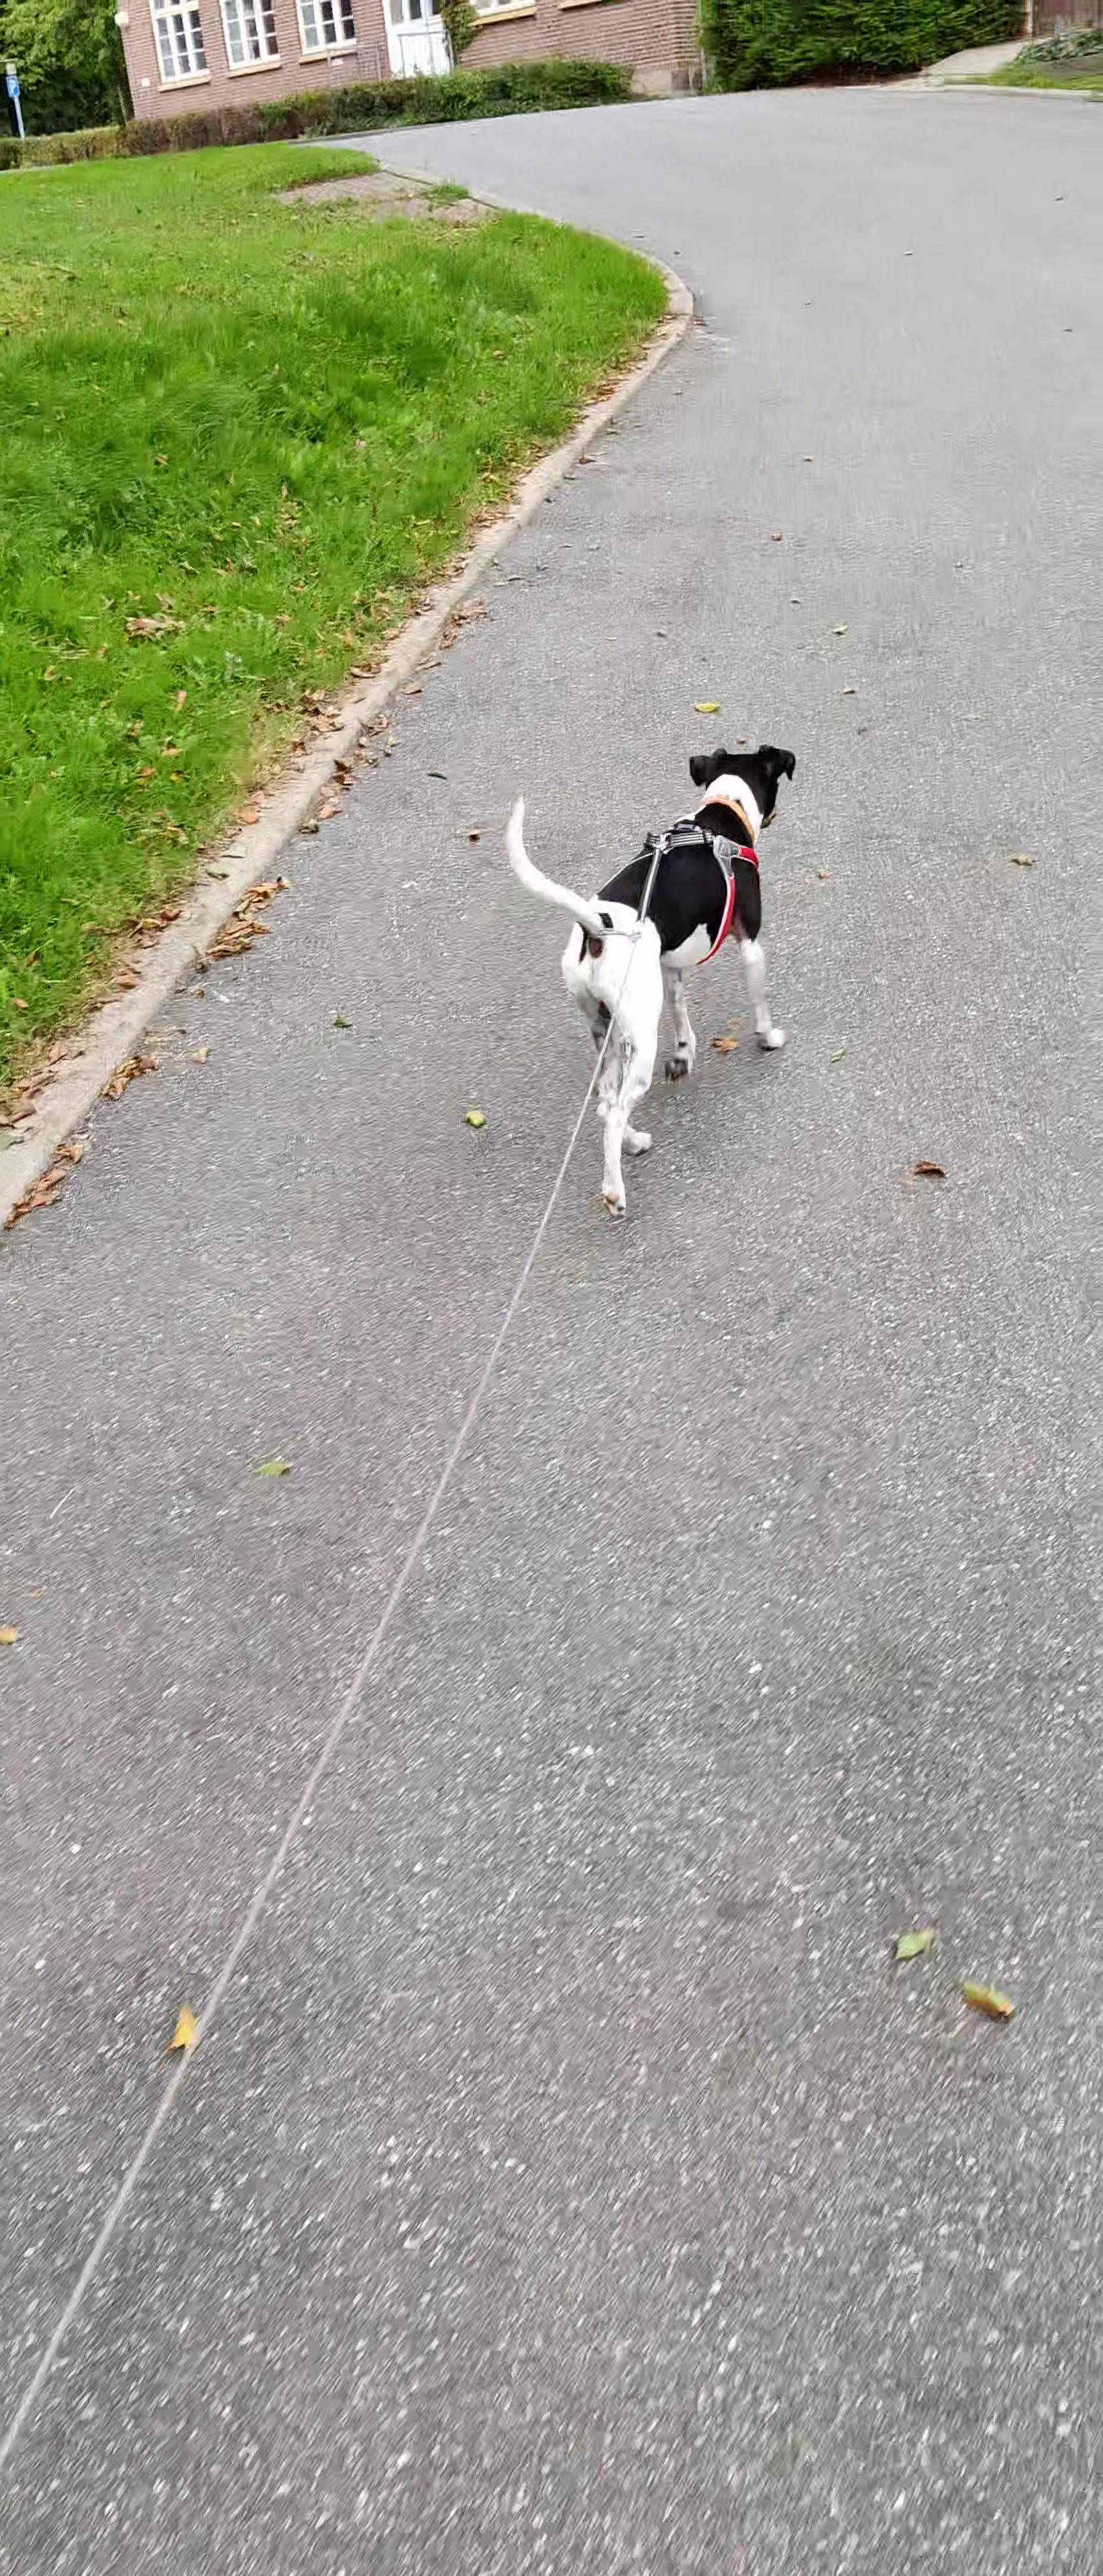Dog: (496, 741, 799, 1229)
